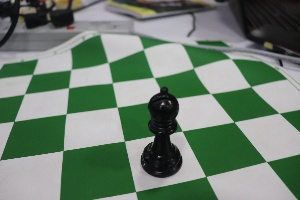black_bishop: (138, 72, 186, 182)
